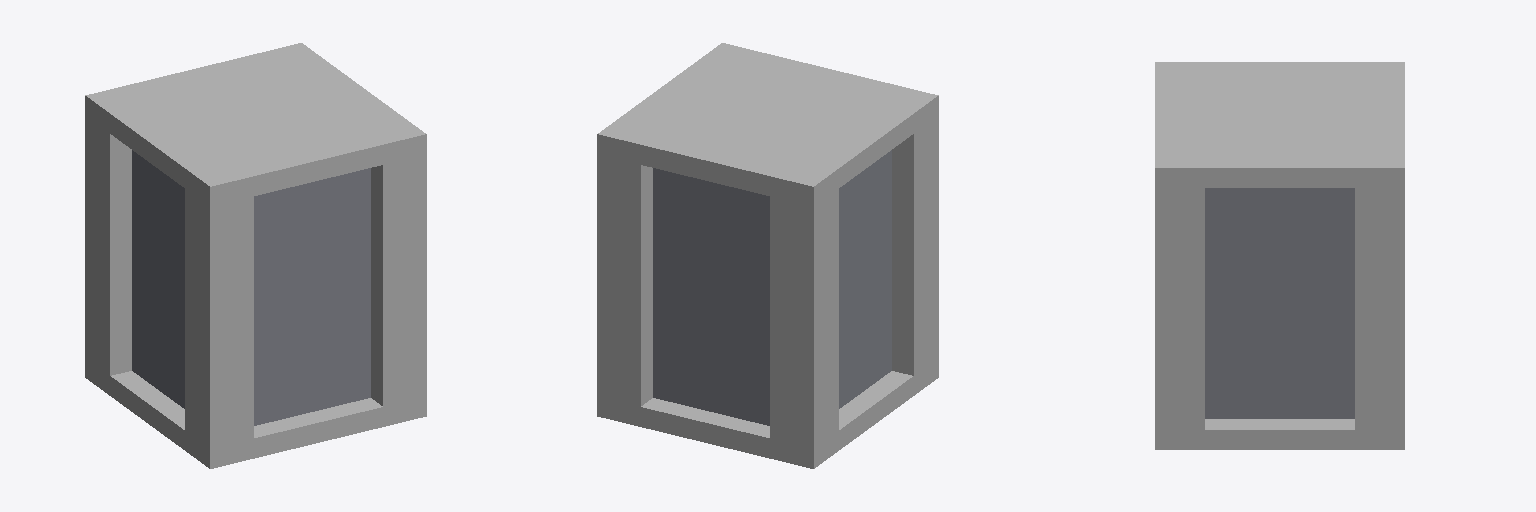
Rendered from low_buildingJ.obj.
3 views of the same model, side by side, from view 1: azimuth 30°, elevation 25°; view 2: azimuth 150°, elevation 25°; view 3: azimuth 270°, elevation 25° (orthographic).
Visible parts, largest first — view 1: low_buildingJ; view 2: low_buildingJ; view 3: low_buildingJ.
Part boxes in pixels (bbox=[...]): low_buildingJ: bbox=[85, 43, 426, 468]; low_buildingJ: bbox=[597, 43, 938, 468]; low_buildingJ: bbox=[1155, 62, 1404, 449].
Bounding box in the file's own units: 0.5 × 0.6237 × 0.5.